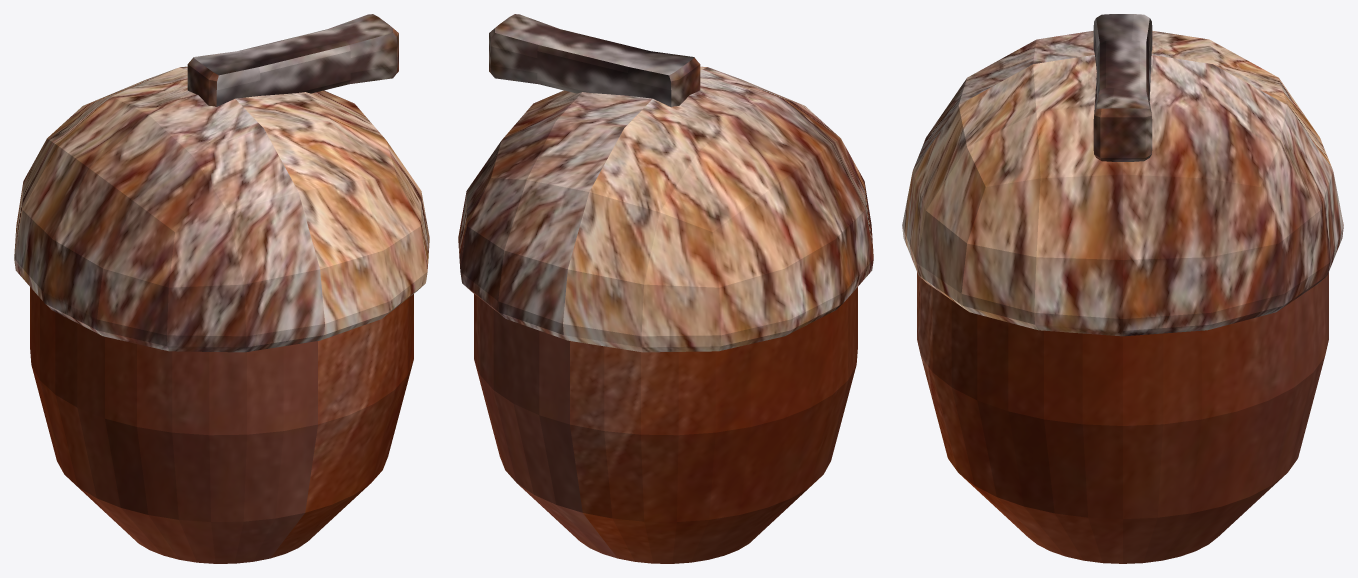
3 renders of one model, left to right at view 1: azimuth 30°, elevation 25°; view 2: azimuth 150°, elevation 25°; view 3: azimuth 270°, elevation 25°, orthographic. The views are drawn at different scales.
Visible parts, largest first — view 1: AcornTop, Acorn, AcornStem; view 2: AcornTop, Acorn, AcornStem; view 3: AcornTop, Acorn, AcornStem.
Part boxes in pixels (x1=…): AcornTop: x1=14, y1=66, x2=429, y2=352; Acorn: x1=30, y1=287, x2=413, y2=563; AcornStem: x1=187, y1=14, x2=398, y2=106; AcornTop: x1=458, y1=66, x2=873, y2=352; Acorn: x1=474, y1=287, x2=857, y2=563; AcornStem: x1=489, y1=14, x2=700, y2=107; AcornTop: x1=902, y1=30, x2=1343, y2=336; Acorn: x1=917, y1=272, x2=1328, y2=563; AcornStem: x1=1093, y1=14, x2=1152, y2=161.
Bounding box in the file's own units: 0.0635 × 0.0832 × 0.0635.
3 materials, 3 textured.
